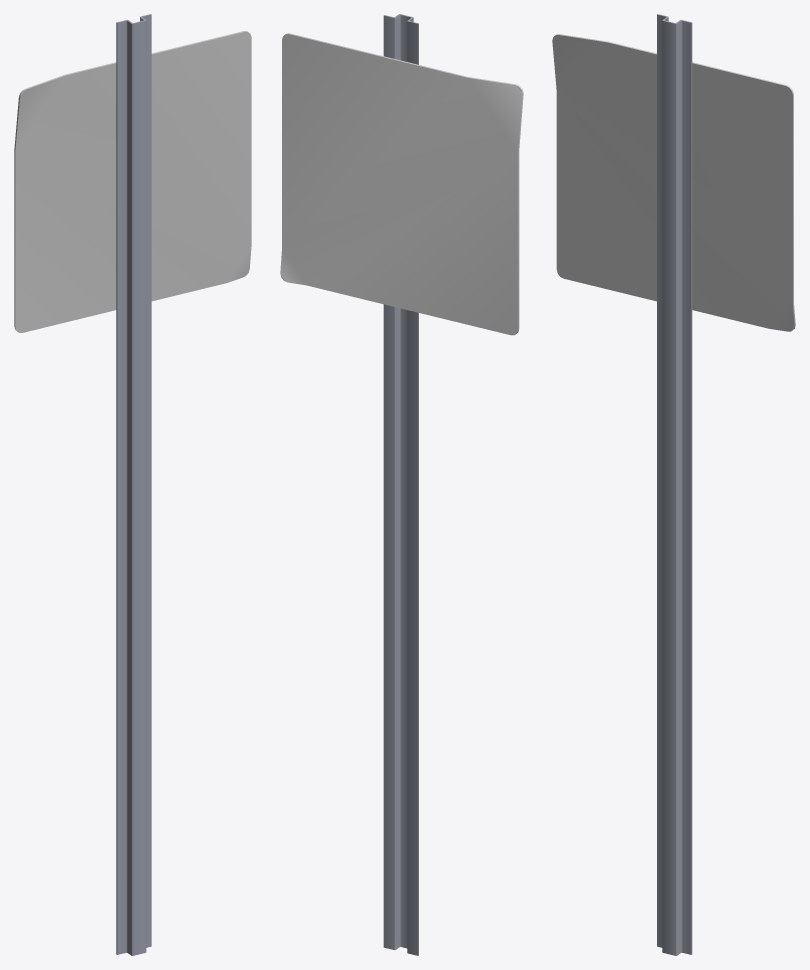
The model's file is sign_metal_s.fbx.
The picture shows the model from 3 angles, left to right: view 1: azimuth 30°, elevation 25°; view 2: azimuth 150°, elevation 25°; view 3: azimuth 330°, elevation 25°; orthographic projection.
Parts seen in each view (by area): view 1: sign-S; view 2: sign-S; view 3: sign-S.
Boxes of the visible parts, box(x1,y1,x2,y2) form: sign-S: box(14, 14, 251, 955); sign-S: box(280, 14, 523, 955); sign-S: box(552, 14, 795, 955).
Size of the model in its own units: 79.61 by 300 by 5.
Materials: 3 (1 with a texture image).
